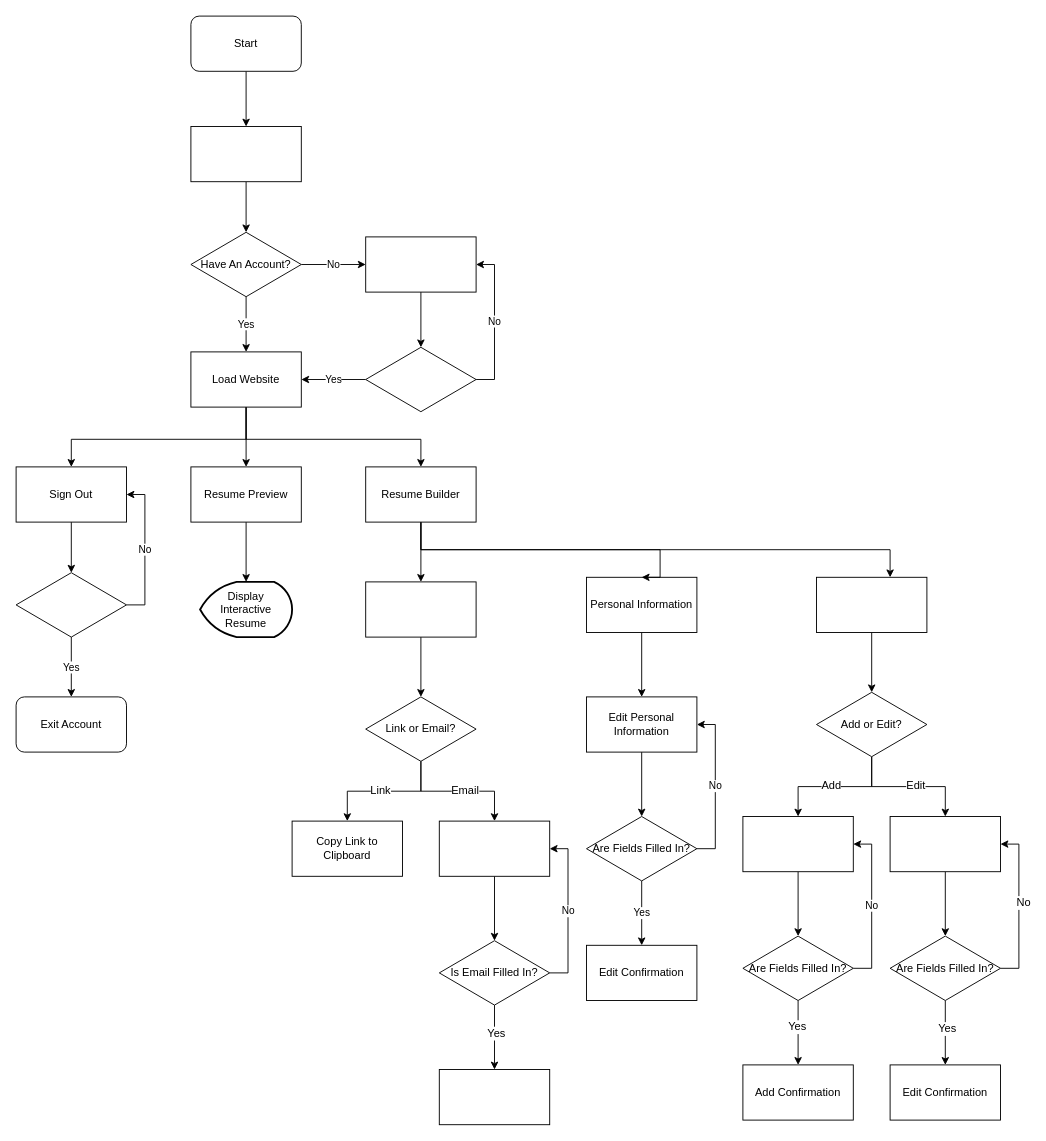
Some shapes in this 1046 by 1141 pixel diagram are drawn without their labels. Each missing label, with the centre of its shape:
"Add Information" belongs at pixel 797 844.
"All Fields Filled In?" belongs at pixel 420 379.
"Confirmation" belongs at pixel 70 604.
"Edit Information" belongs at pixel 944 844.
"Education/ Experience/ Skills" belongs at pixel 871 604.
"Email Confirmation" belongs at pixel 494 1097.
"Enter Email" belongs at pixel 494 848.
"Share" belongs at pixel 420 609.
"Sign In" belongs at pixel 245 154.
"Sign Up" belongs at pixel 420 264.
